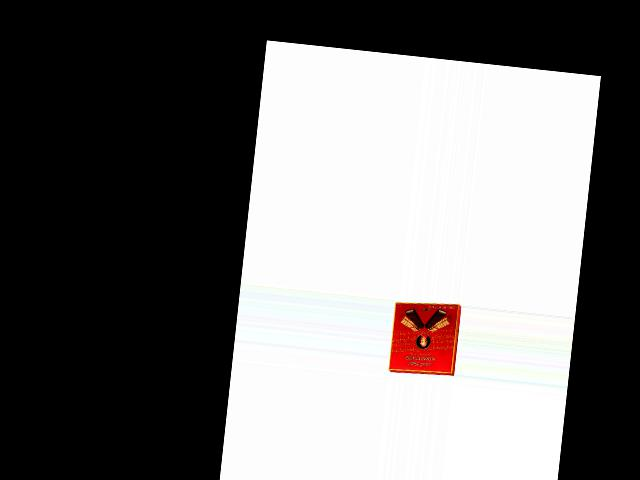chocolate: (386, 295, 462, 377)
